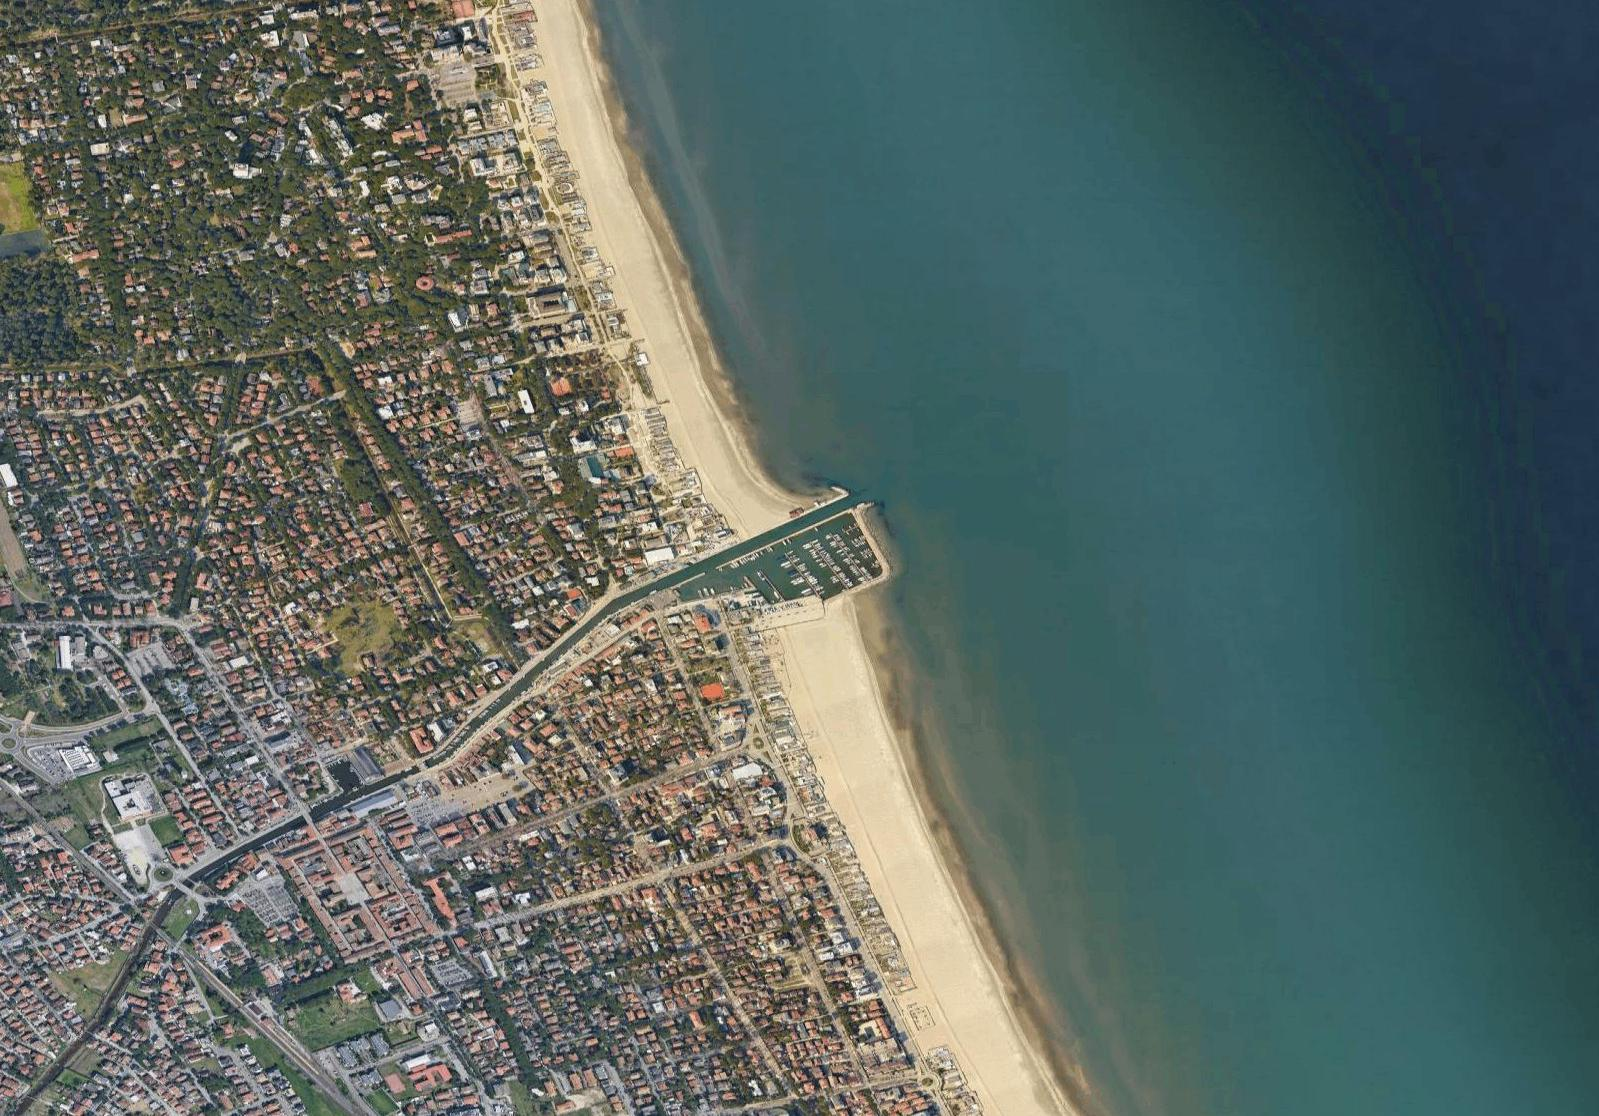harbor: (684, 474, 906, 630)
